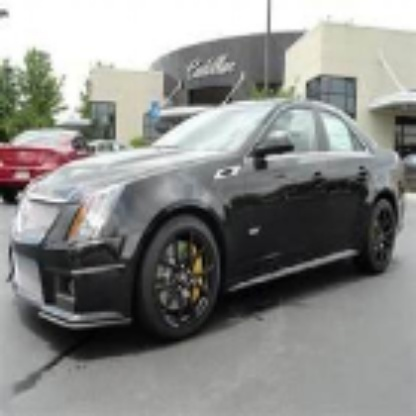Vehicle: (4, 93, 408, 353)
